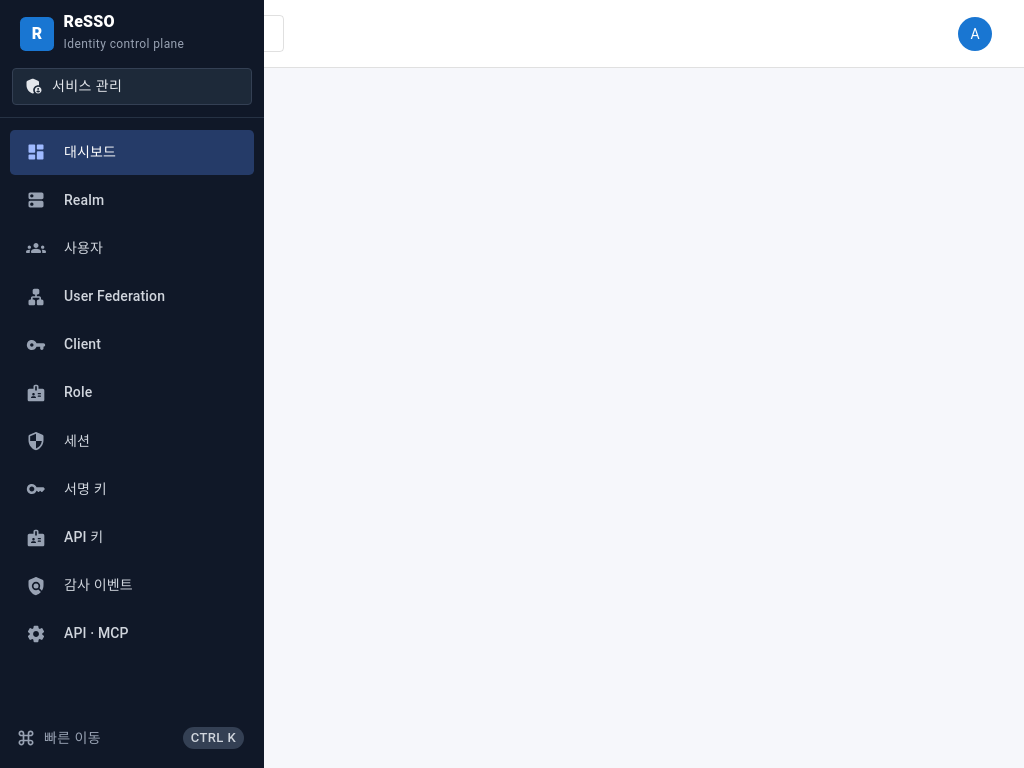
Test: 메뉴로 화면을 옮기면 포커스가 새 본문으로 따라간다
Click the link "사용자" at x=64, y=248, box top-left (26, 238), bottom-right (103, 258)
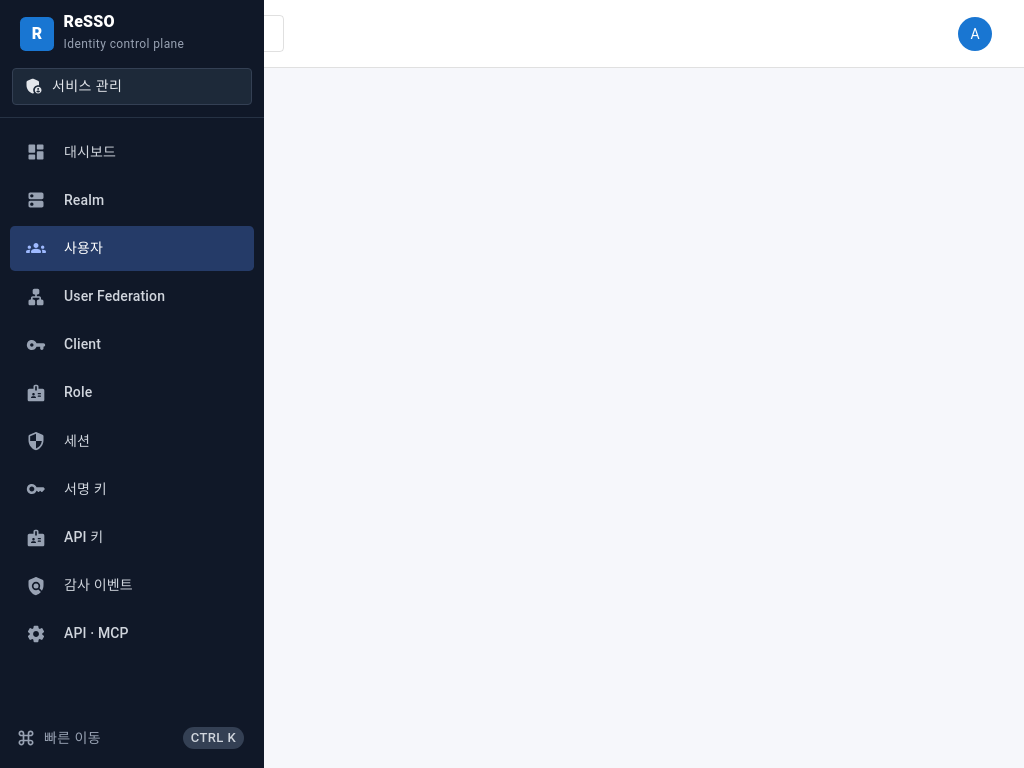
Expected: the heading "사용자" is shown, top-left (24, 118), bottom-right (113, 156)
